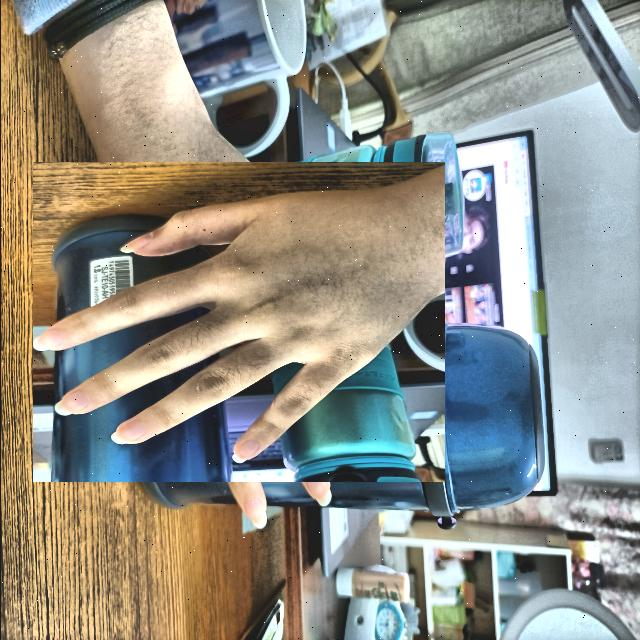not-gloved: (54, 139, 421, 505)
